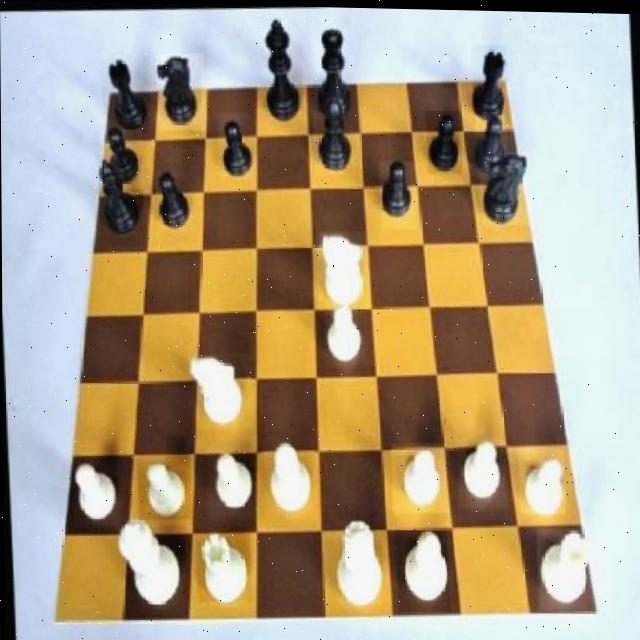bishop: (96, 153, 146, 247), (311, 88, 355, 175)
black-bishop: (260, 13, 305, 129)
black-king: (478, 147, 531, 224), (156, 53, 207, 132)
black-knight: (99, 128, 144, 189), (379, 159, 417, 229), (216, 111, 253, 179), (425, 108, 461, 173), (155, 169, 192, 232), (475, 113, 508, 176)
black-pawn: (313, 27, 356, 128)
black-queen: (102, 56, 153, 136), (471, 42, 509, 123)
black-rook: (394, 522, 450, 610), (261, 434, 315, 517)
white-bishop: (117, 517, 184, 610)
white-king: (190, 351, 253, 430), (315, 227, 371, 310)
white-knight: (390, 441, 448, 514), (135, 452, 192, 520), (206, 445, 257, 521), (322, 293, 368, 375), (456, 436, 507, 509), (70, 454, 121, 525), (518, 444, 565, 513)
white-pawn: (333, 518, 381, 605)
white-queen: (535, 523, 595, 608), (196, 529, 252, 601)
